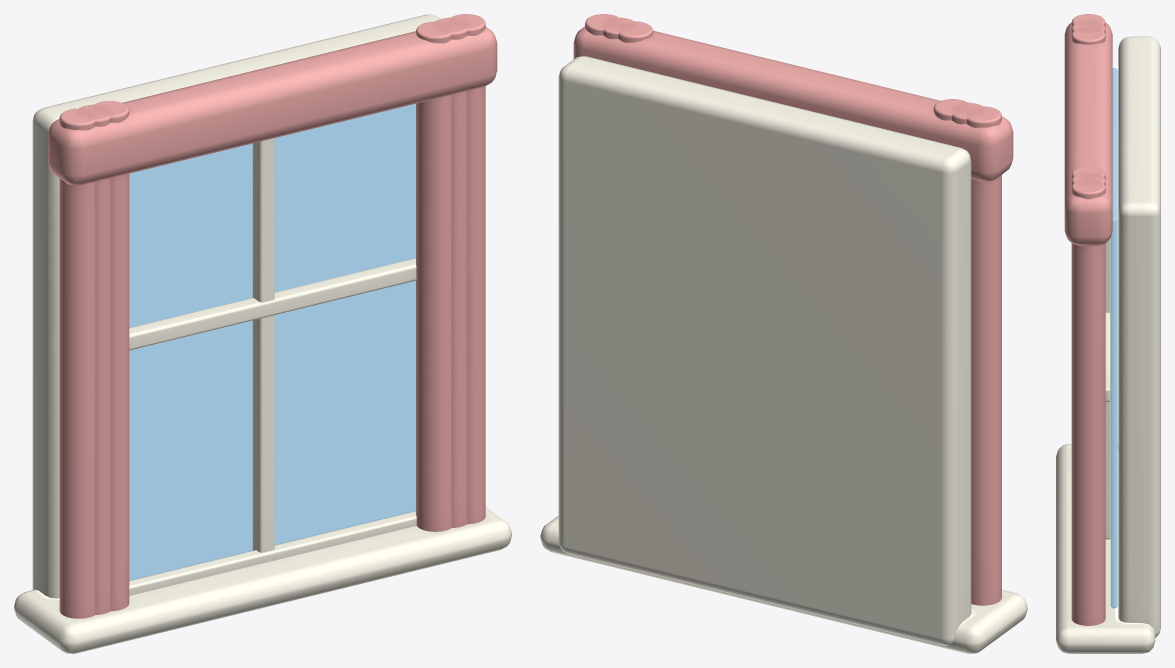
The model's file is window8B.glb.
3 views of the same model, side by side, from view 1: azimuth 30°, elevation 25°; view 2: azimuth 150°, elevation 25°; view 3: azimuth 270°, elevation 25° (orthographic). The views are drawn at different scales.
Parts seen in each view (by area): view 1: Window glass, Curtain pelmet, Sill, Window frame, Curtain fold, Curtain fold.005, Curtain fold.002, Window muntin, Curtain fold.003, Curtain fold.004, Curtain fold.001, Window crossbar (+1 smaller); view 2: Window frame, Curtain pelmet, Curtain fold, Sill; view 3: Window frame, Curtain fold.003, Curtain pelmet, Sill, Window glass, Window muntin, Window crossbar, Curtain fold.002, Curtain fold.005, Curtain fold, Curtain fold.001, Curtain fold.004.
Part boxes in pixels (left/top/right/bottom): Window glass: left=129, top=103, right=415, bottom=580; Curtain pelmet: left=48, top=26, right=497, bottom=185; Sill: left=14, top=507, right=511, bottom=653; Window frame: left=32, top=14, right=440, bottom=598; Curtain fold: left=59, top=108, right=95, bottom=618; Curtain fold.005: left=416, top=21, right=451, bottom=531; Curtain fold.002: left=93, top=101, right=129, bottom=611; Window muntin: left=252, top=138, right=274, bottom=552; Curtain fold.003: left=449, top=14, right=485, bottom=524; Curtain fold.004: left=434, top=17, right=467, bottom=527; Curtain fold.001: left=78, top=104, right=110, bottom=614; Window crossbar: left=129, top=258, right=416, bottom=350; Window frame: left=558, top=56, right=971, bottom=645; Curtain pelmet: left=573, top=26, right=1013, bottom=181; Curtain fold: left=966, top=106, right=1001, bottom=605; Sill: left=540, top=515, right=1027, bottom=653; Window frame: left=1118, top=36, right=1160, bottom=637; Curtain fold.003: left=1071, top=179, right=1105, bottom=625; Curtain pelmet: left=1064, top=22, right=1112, bottom=245; Sill: left=1056, top=444, right=1155, bottom=653; Window glass: left=1110, top=68, right=1117, bottom=608; Window muntin: left=1105, top=238, right=1110, bottom=539; Window crossbar: left=1105, top=312, right=1110, bottom=402; Curtain fold.002: left=1071, top=27, right=1105, bottom=44; Curtain fold.005: left=1071, top=166, right=1105, bottom=179; Curtain fold: left=1071, top=14, right=1105, bottom=27; Curtain fold.001: left=1071, top=20, right=1105, bottom=33; Curtain fold.004: left=1071, top=173, right=1105, bottom=185.
Bounding box in the file's own units: 1.61 × 1.78 × 0.37.
